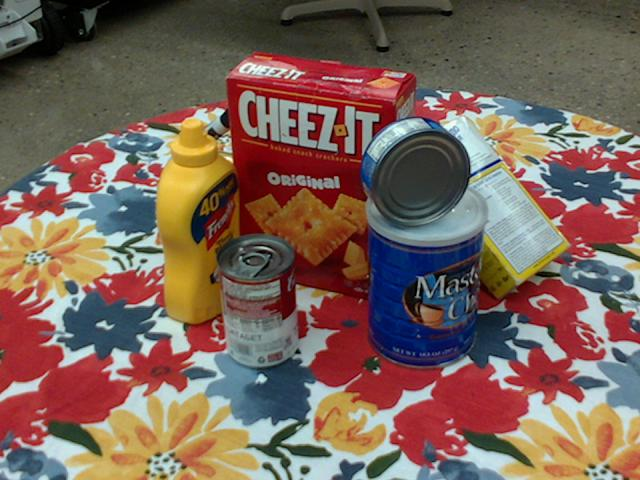cracker_box: (227, 53, 418, 299)
gelatin_box: (220, 144, 302, 212)
large_marker: (166, 101, 248, 172)
master_chef_can: (365, 178, 486, 372)
mug: (369, 134, 456, 234)
mustard_bottle: (155, 119, 243, 325)
potted_meat_can: (155, 149, 242, 264)
sugar_box: (390, 116, 571, 302)
tomato_soup_can: (214, 234, 297, 369)
tuna_fish_can: (362, 117, 472, 227)
